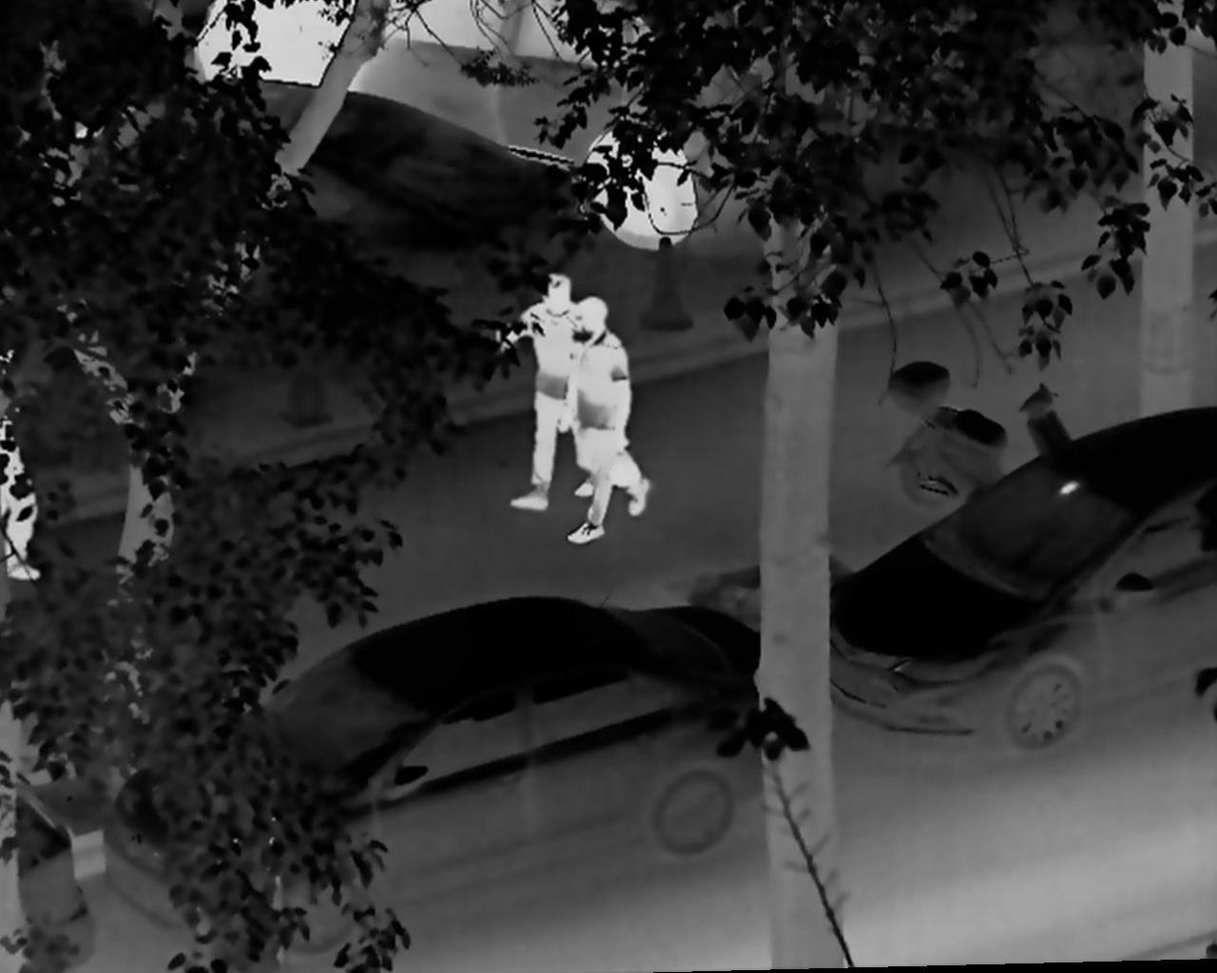person: (489, 266, 615, 511), (562, 297, 654, 544)
